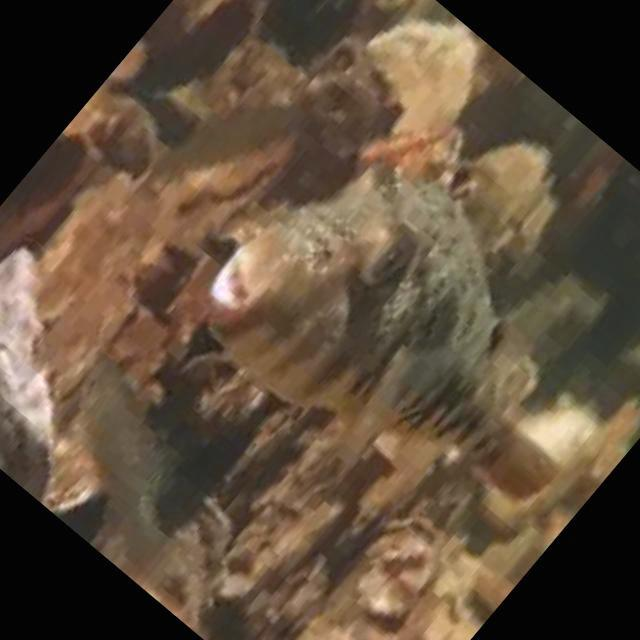Oyster-Closed: (29, 165, 159, 394), (93, 483, 230, 640), (366, 21, 474, 130), (0, 249, 48, 494), (460, 146, 547, 251), (358, 515, 442, 618), (301, 68, 390, 160), (501, 408, 589, 486), (357, 125, 463, 185), (146, 0, 223, 52), (434, 615, 487, 640)
Oyster-Open: (157, 136, 294, 228), (87, 93, 156, 173)
